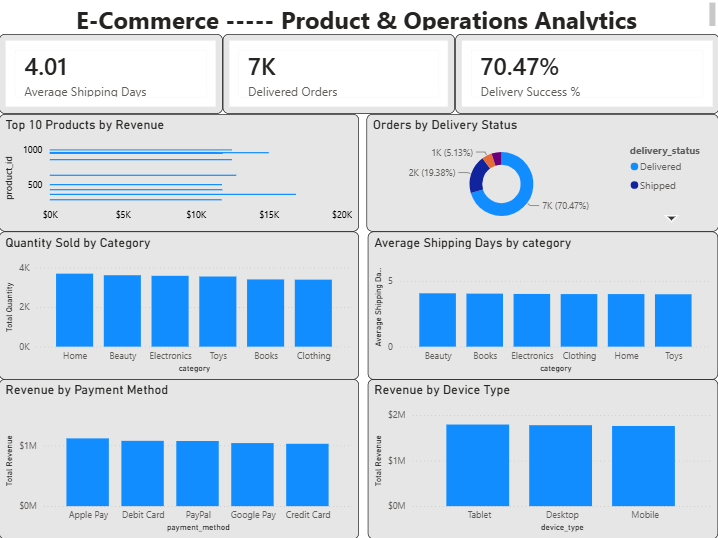

The page's visual inventory and layout, read from the dashboard file:
{"tool":"powerbi","page":{"name":"Product & Operations Analytics","canvas":[960,720],"ordinal":2},"visuals":[{"type":"barChart","title":"Top 10 Products by Revenue","fields":{"Category":["ecommerce_orders_clean.product_id"],"Y":["ecommerce_orders_clean.Total Revenue"]},"box":[0,152.9,480,156.4],"z":0},{"type":"clusteredColumnChart","title":"Quantity Sold by Category","fields":{"Category":["ecommerce_orders_clean.category"],"Y":["ecommerce_orders_clean.Total Quantity"]},"box":[0,309.3,480,197.3],"z":1000},{"type":"donutChart","title":"Orders by Delivery Status","fields":{"Category":["ecommerce_orders_clean.delivery_status"],"Y":["ecommerce_orders_clean.Total Orders"]},"box":[490.7,152.9,469.3,156.4],"z":2000},{"type":"clusteredColumnChart","title":"Revenue by Payment Method","fields":{"Category":["ecommerce_orders_clean.payment_method"],"Y":["ecommerce_orders_clean.Total Revenue"]},"box":[0,506.7,480,213.3],"z":3000},{"type":"clusteredColumnChart","title":"Revenue by Device Type","fields":{"Category":["ecommerce_orders_clean.device_type"],"Y":["ecommerce_orders_clean.Total Revenue"]},"box":[492.4,506.7,467.6,213.3],"z":4000},{"type":"textbox","box":[0,0,960,46.2],"z":5000},{"type":"cardVisual","fields":{"Data":["ecommerce_orders_clean.Average Shipping Days"]},"box":[0,46.2,298.7,106.7],"z":6000},{"type":"cardVisual","fields":{"Data":["ecommerce_orders_clean.Delivered Orders"]},"box":[298.7,46.2,309.3,106.7],"z":7000},{"type":"cardVisual","fields":{"Data":["ecommerce_orders_clean.Delivery Success %"]},"box":[608,46.2,352,106.7],"z":8000},{"type":"clusteredColumnChart","fields":{"Category":["ecommerce_orders_clean.category"],"Y":["ecommerce_orders_clean.Average Shipping Days"]},"box":[492.4,309.3,467.6,197.3],"z":9000}]}

Visuals, with their boxes in screenshot pixels (x1, y1, x2, y2), scaled from the page's 960x720 canvas onto the 718x538 screenshot:
"Top 10 Products by Revenue" barChart: region(0, 114, 359, 231)
"Quantity Sold by Category" clusteredColumnChart: region(0, 231, 359, 379)
"Orders by Delivery Status" donutChart: region(367, 114, 717, 231)
"Revenue by Payment Method" clusteredColumnChart: region(0, 379, 359, 537)
"Revenue by Device Type" clusteredColumnChart: region(368, 379, 717, 537)
textbox: region(0, 0, 717, 35)
cardVisual - ecommerce_orders_clean.Average Shipping Days: region(0, 35, 223, 114)
cardVisual - ecommerce_orders_clean.Delivered Orders: region(223, 35, 455, 114)
cardVisual - ecommerce_orders_clean.Delivery Success %: region(455, 35, 717, 114)
clusteredColumnChart - ecommerce_orders_clean.category x ecommerce_orders_clean.Average Shipping Days: region(368, 231, 717, 379)
